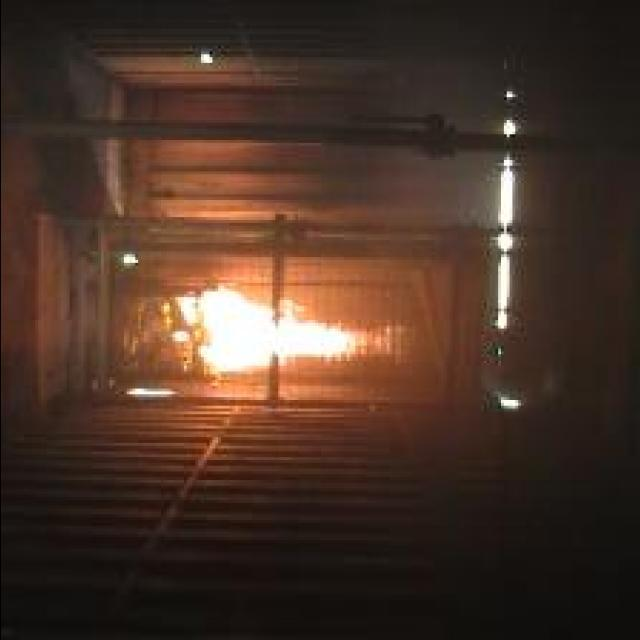Fire: (175, 292, 398, 378)
